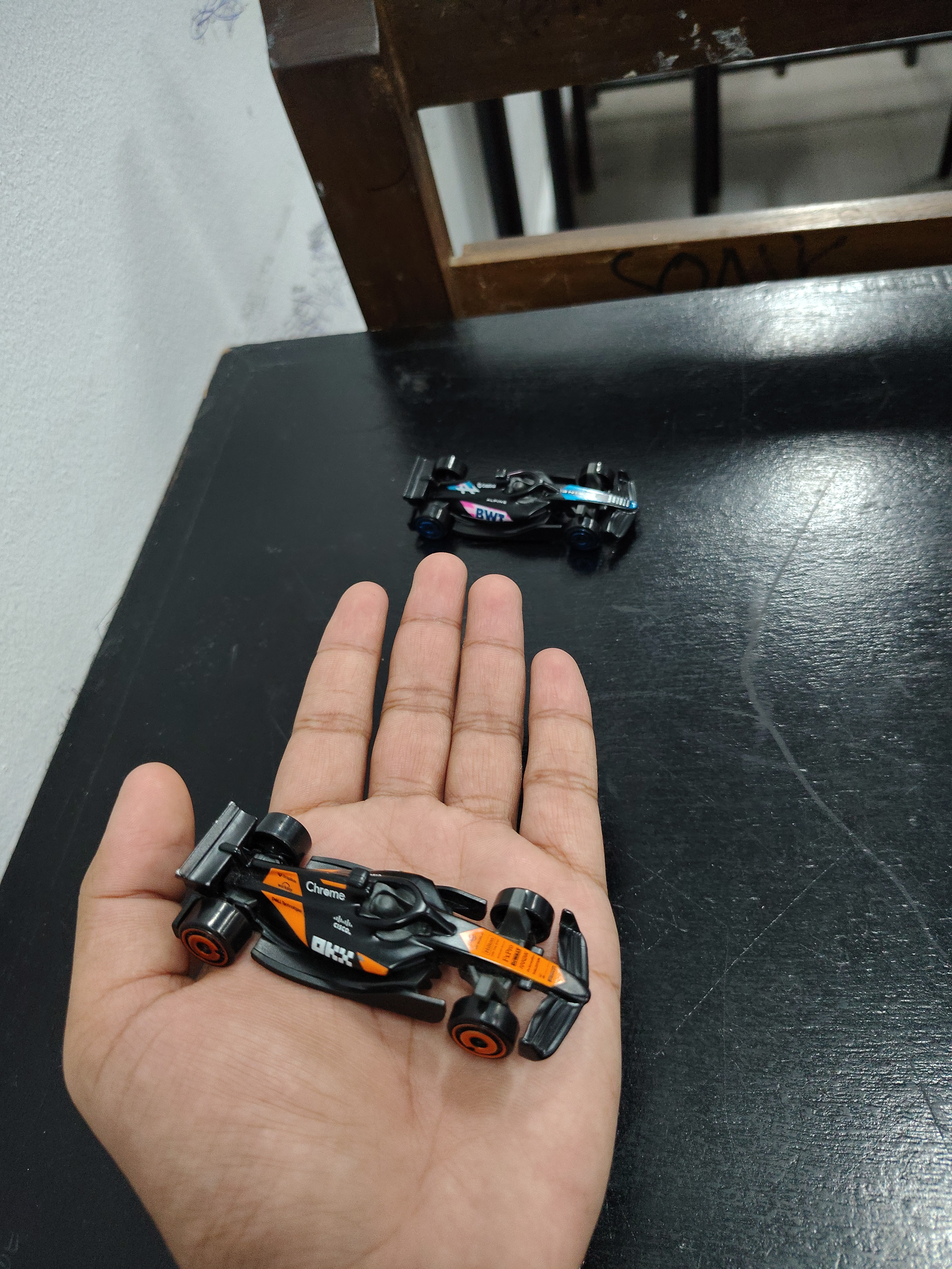Alpine A524: (364, 414, 660, 589)
McLaren MCL40: (135, 745, 637, 1100)
